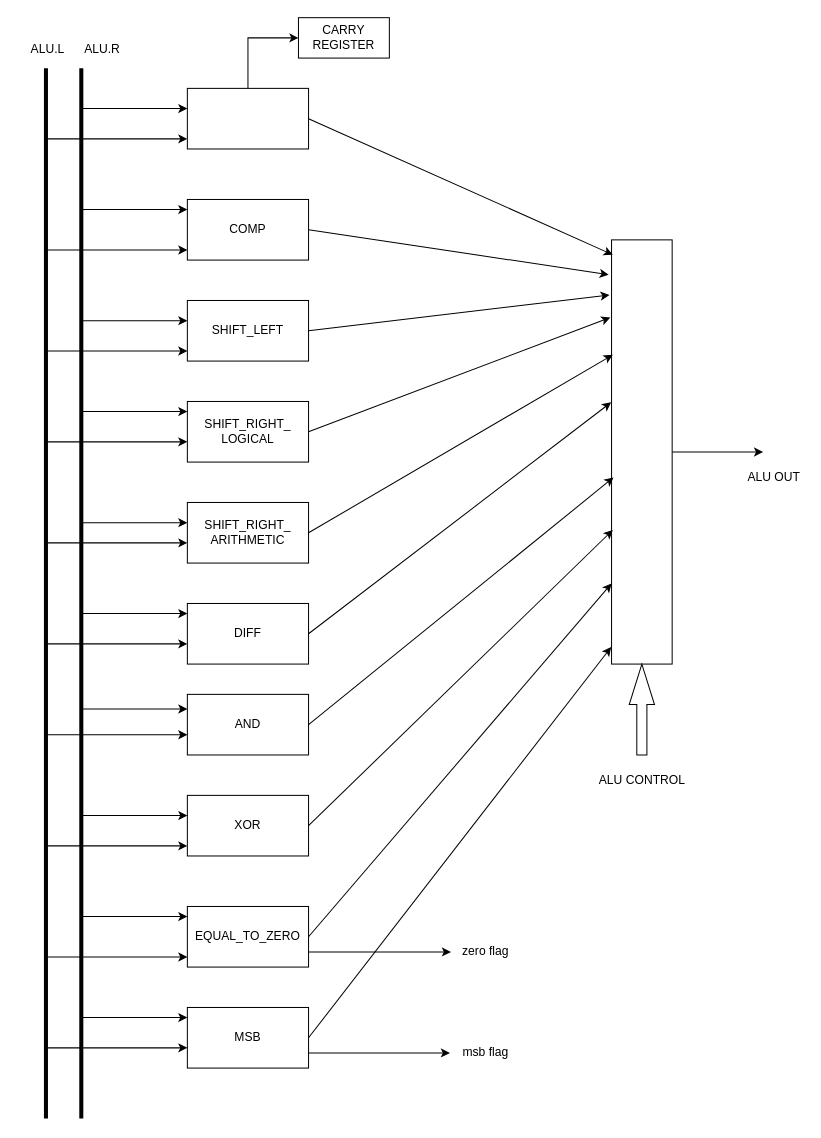
The diagram is 821 pixels wide and 1138 high, and some of its shapes have lost their labels. Here are the shapes that lost their labels. From the top down, the box of each, then its label:
(186, 87, 309, 149): ADD
(611, 239, 672, 664): MUX
